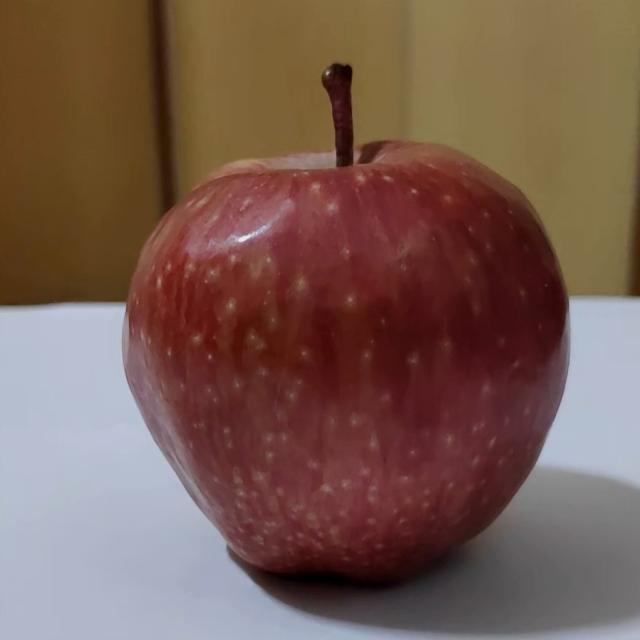apple: (30, 43, 592, 640)
